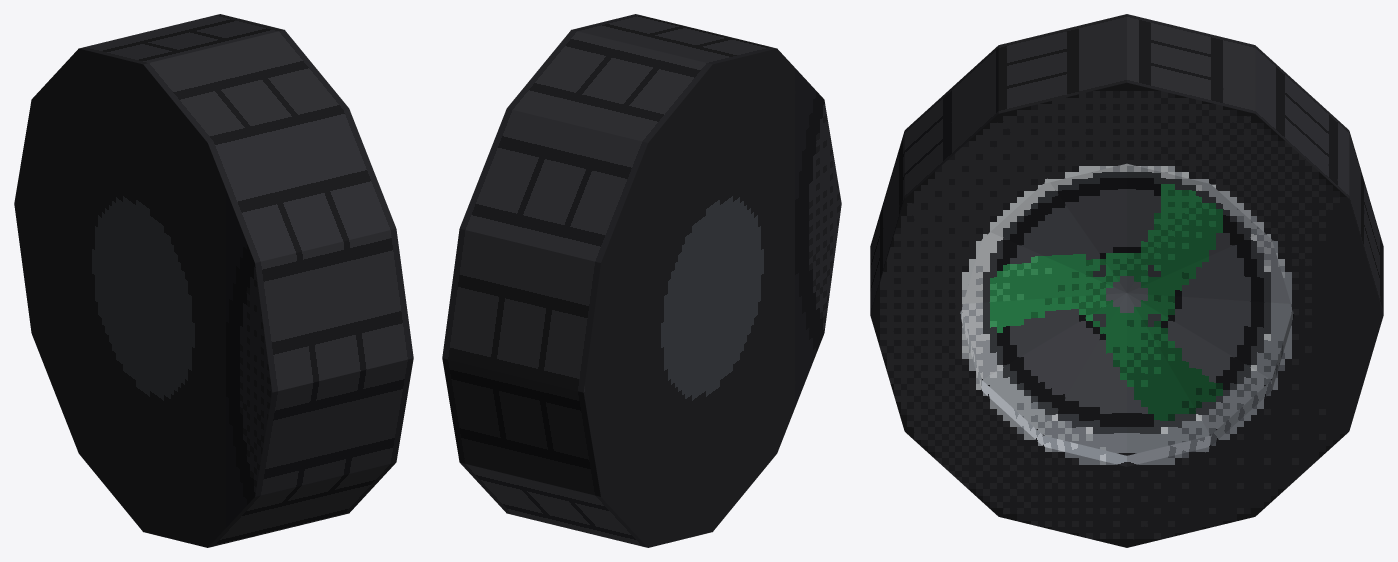
File: wheel_tri.glb
3 renders of one model, left to right at view 1: azimuth 30°, elevation 25°; view 2: azimuth 150°, elevation 25°; view 3: azimuth 270°, elevation 25°, orthographic.
Parts seen in each view (by area): view 1: wheel_tri; view 2: wheel_tri; view 3: wheel_tri.
Part boxes in pixels (x1,y1,x2,y2): wheel_tri: [14, 14, 413, 547]; wheel_tri: [442, 14, 841, 547]; wheel_tri: [870, 14, 1383, 547].
Bounding box in the file's own units: 0.185 × 0.5845 × 0.5845.
1 material, 1 textured.
